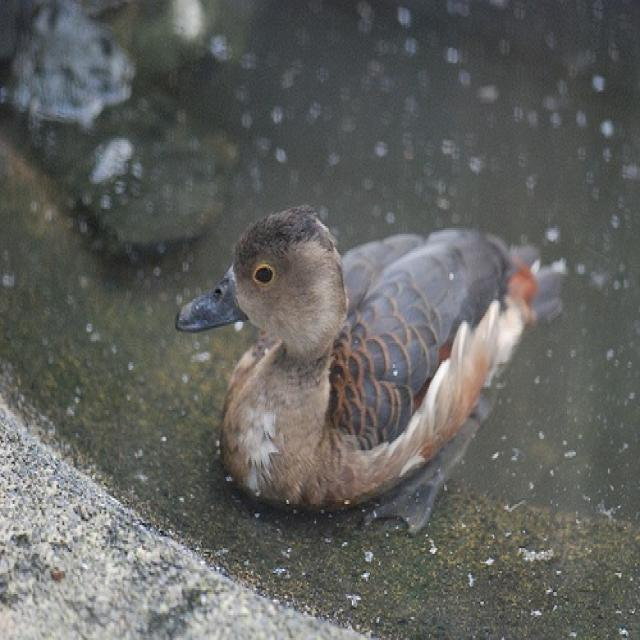bird: (174, 207, 535, 536)
